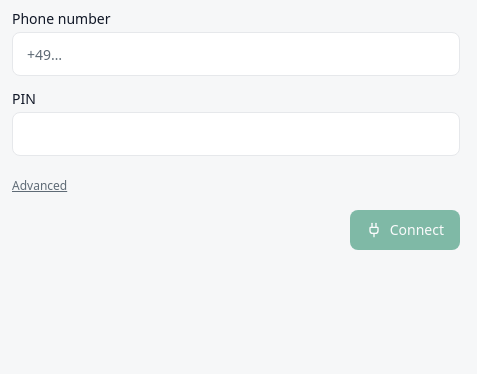
Scenario: TrConnectFlow › walks connect → awaiting approval → connected (auto-polls, no code)
Type "+4915112345678" into the field labelled "Phone number". click: (236, 54)
box: [12, 32, 460, 76]
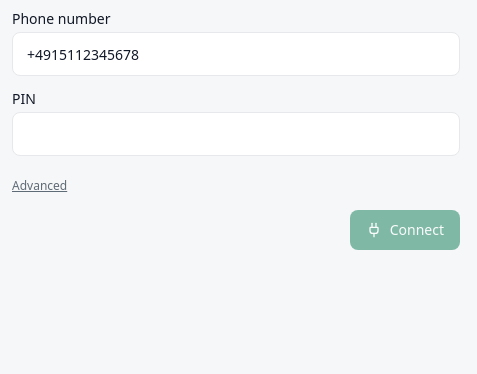
Type "1234" into the password field labelled "PIN". click: (236, 134)
box: [12, 112, 460, 156]
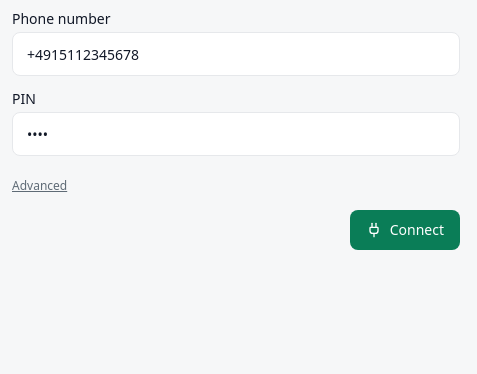
Click the button "Connect". click: (405, 230)
box: [350, 210, 460, 250]
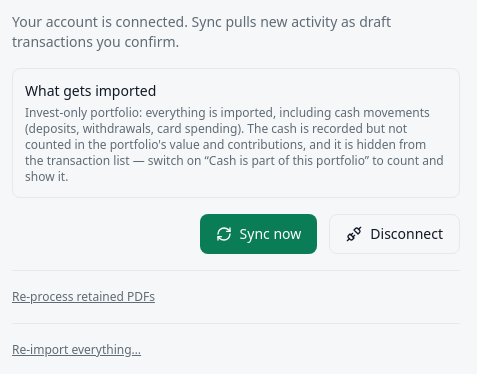
Expected: the button "Sync now" is shown, [200, 214, 317, 254]
